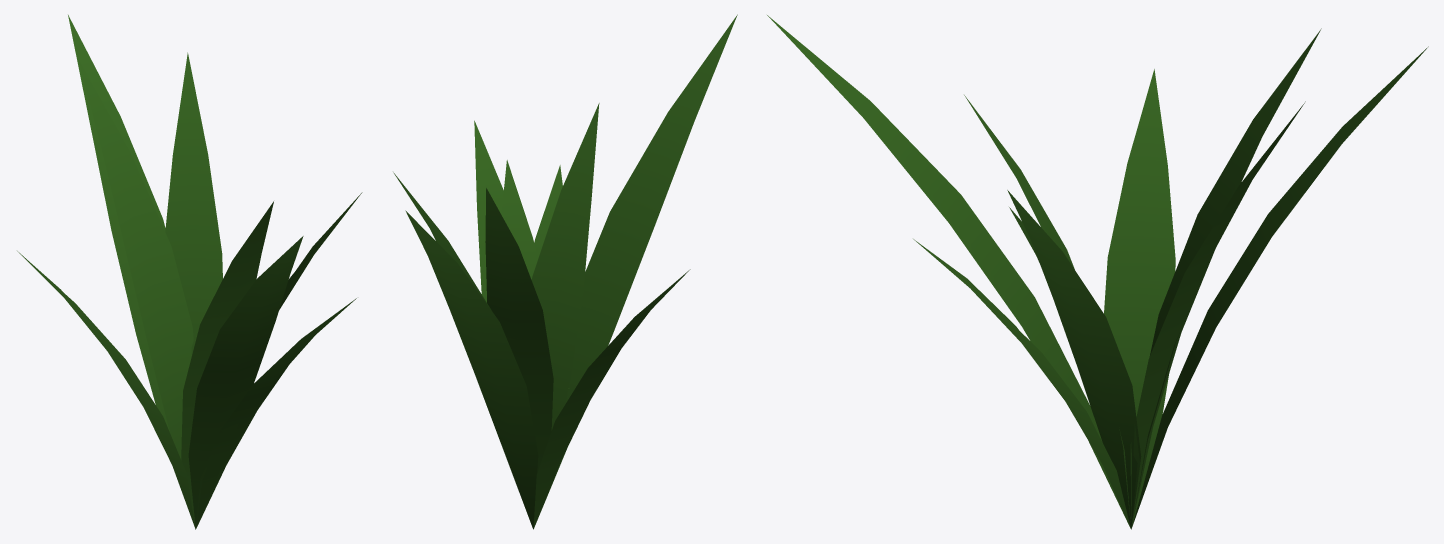
The model's file is tuft-1.gltf.
The picture shows the model from 3 angles, left to right: view 1: azimuth 30°, elevation 25°; view 2: azimuth 150°, elevation 25°; view 3: azimuth 270°, elevation 25°; orthographic projection. The views are drawn at different scales.
Bounding box in the file's own units: 0.2598 × 0.3674 × 0.4533.
